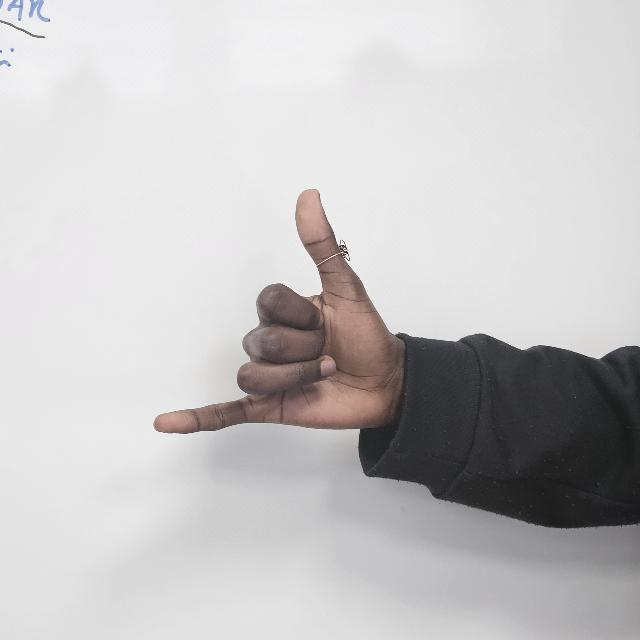Direita: (152, 186, 398, 468)
